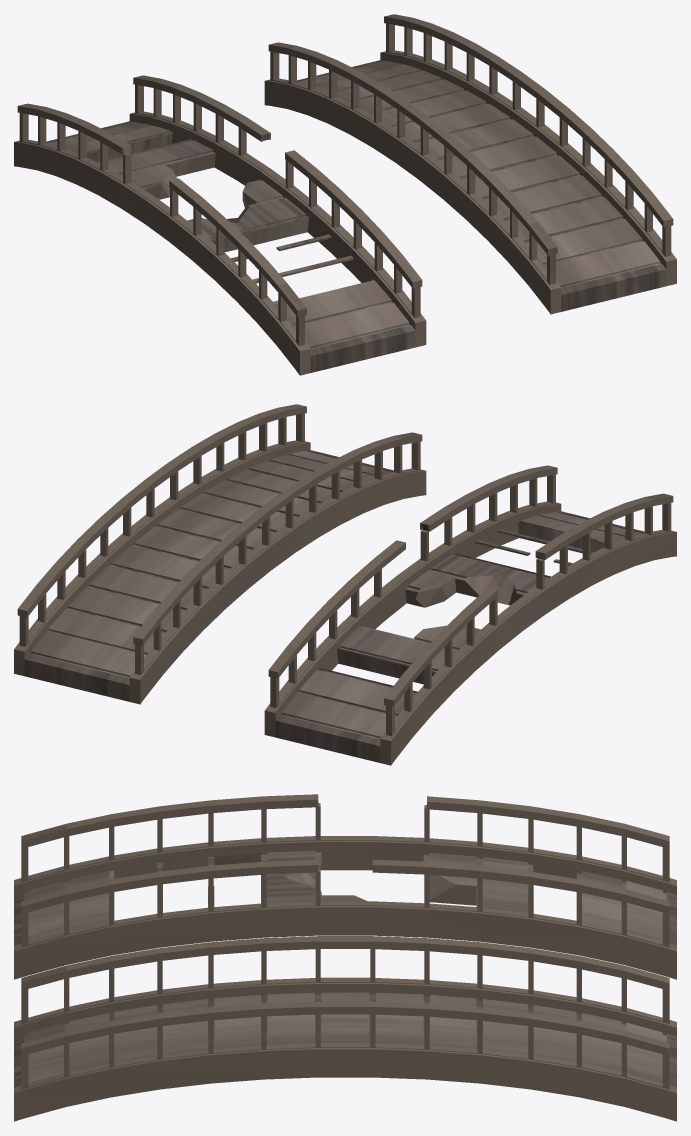
File: Bridge.fbx
The picture shows the model from 3 angles, top to bottom: view 1: azimuth 30°, elevation 25°; view 2: azimuth 150°, elevation 25°; view 3: azimuth 270°, elevation 25°; orthographic projection. The views are drawn at different scales.
Visible parts, largest first — view 1: Cube.001, Cube.002; view 2: Cube.001, Cube.002; view 3: Cube.001, Cube.002.
Boxes of the visible parts, x1,y1,x2,y2 form: Cube.001: (264,14,676,314); Cube.002: (14,75,426,375); Cube.001: (14,404,426,704); Cube.002: (264,465,676,765); Cube.001: (14,936,676,1121); Cube.002: (14,794,676,979).
Bounding box in the file's own units: 597 × 150 × 785.
Materials: 2 (2 with a texture image).
